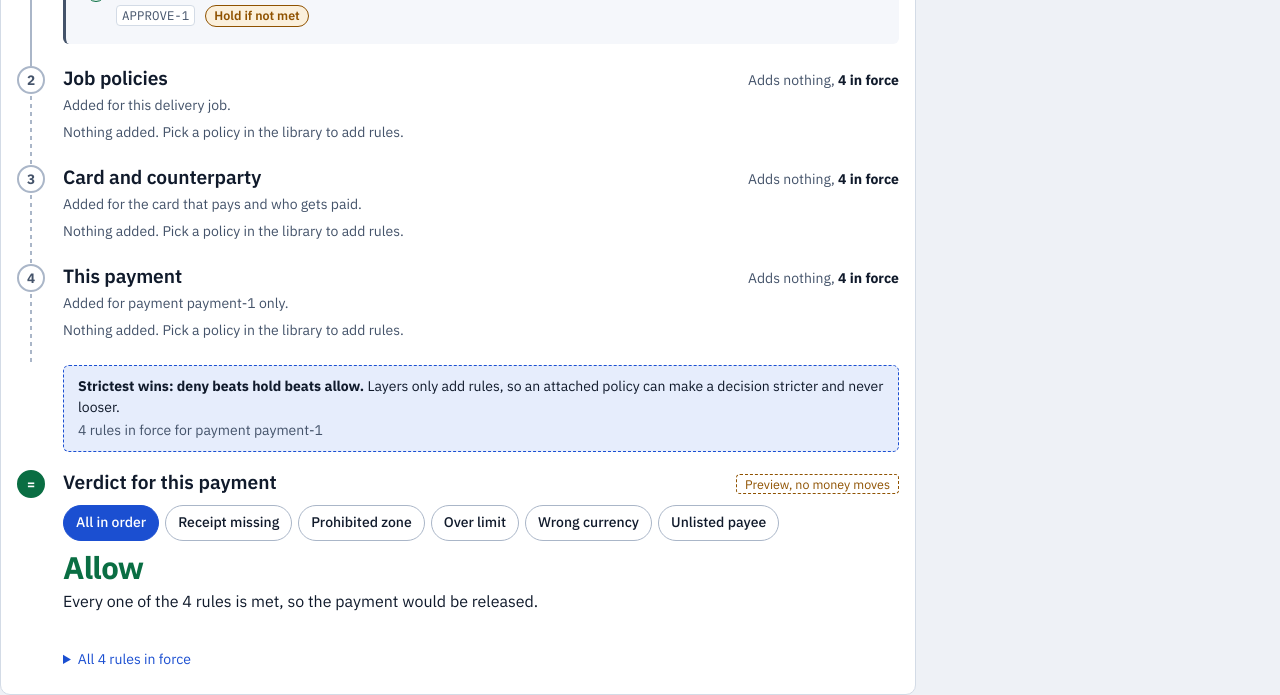
Test: PoliciesView › shows the stack in order with plain-English rules and a live preview
The image size is (1280, 695).
(page scrolled)
Expected: the text "Strictest wins: deny beats hold beats allow." is shown, [78,377,364,395]
Expected: the text with test id "verdict" reads "Allow", [63,547,143,588]
Click the button "Receipt missing" at (229, 523), box [165,505,292,541]
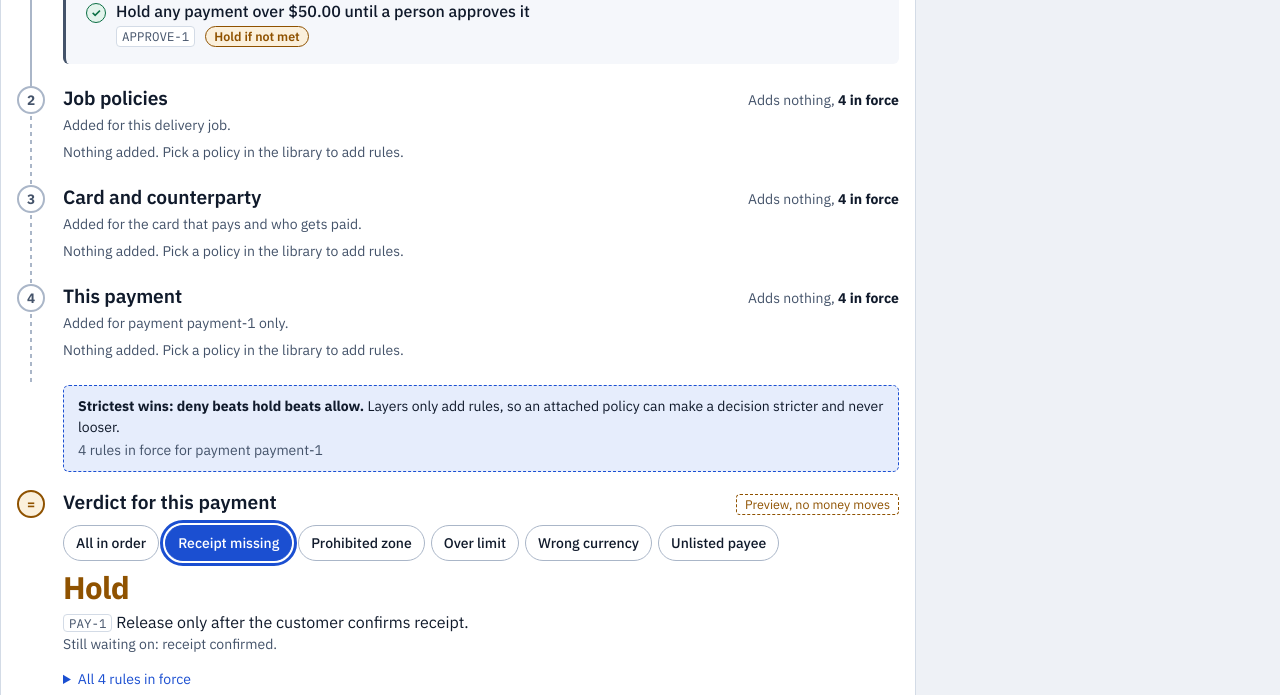
Expected: the text with test id "verdict" reads "Hold", [63,567,129,608]
Expected: the element with test id "deciding" shows "PAY-1", [69,615,106,631]
Click the button "Prohibited zone" at (361, 543), box [298,525,425,561]
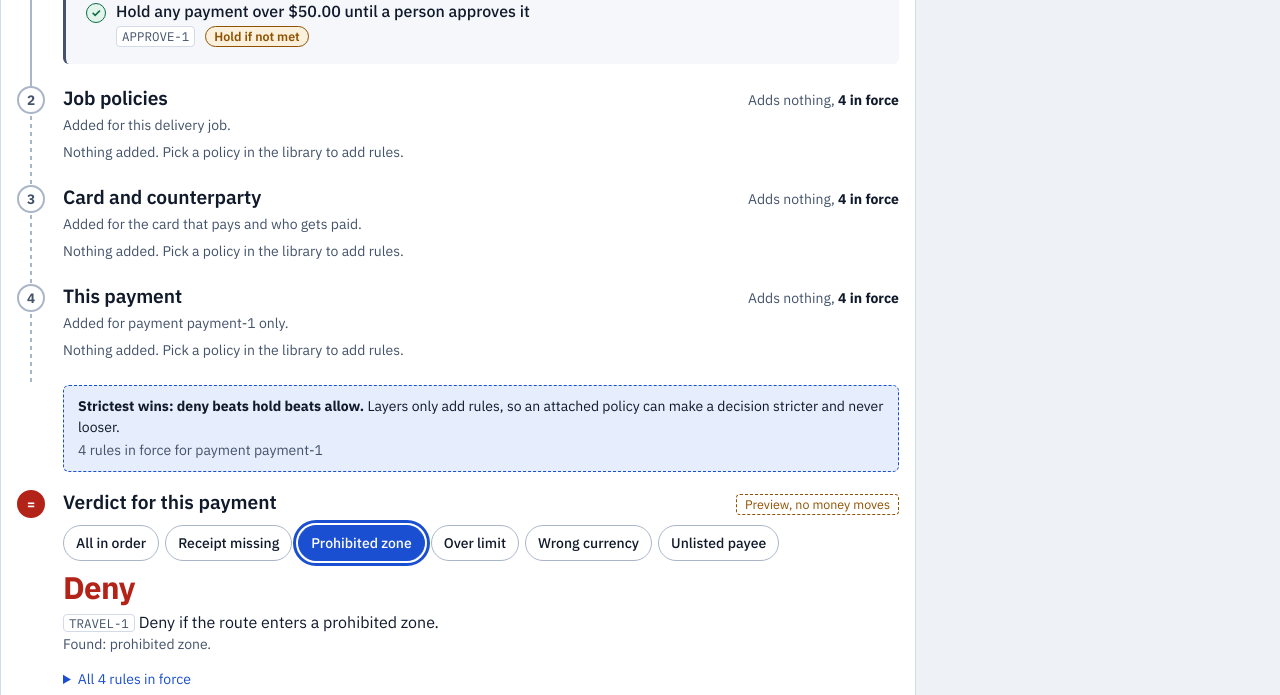
Expected: the text with test id "verdict" reads "Deny", [63,567,135,608]
Expected: the element with test id "deciding" shows "TRAVEL-1", [69,615,129,631]
Click the button "Wrong currency" at (589, 543), box [525,525,652,561]
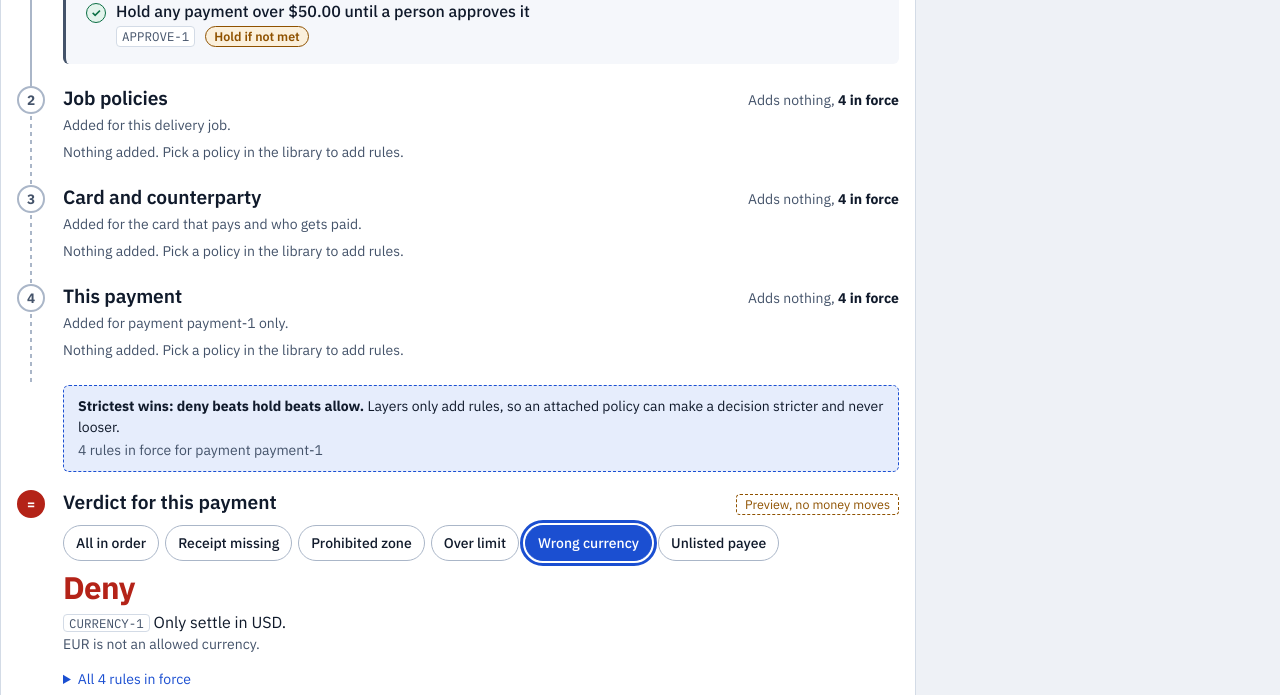
Expected: the element with test id "deciding" shows "CURRENCY-1", [69,615,144,631]
